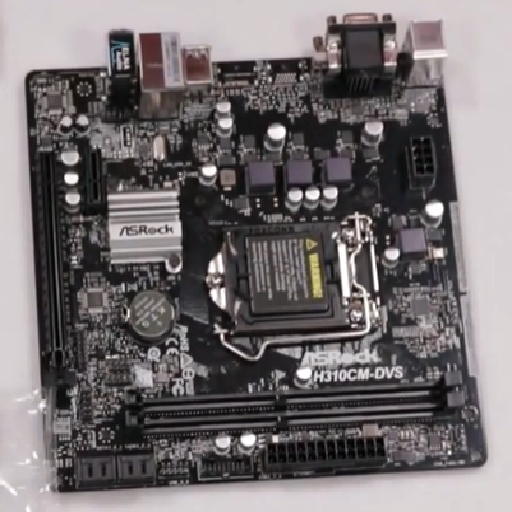CPU: (203, 214, 386, 338)
GPU: (32, 148, 84, 381)
MOTHERBOARD: (27, 16, 487, 489)
RAM: (137, 370, 470, 435)
